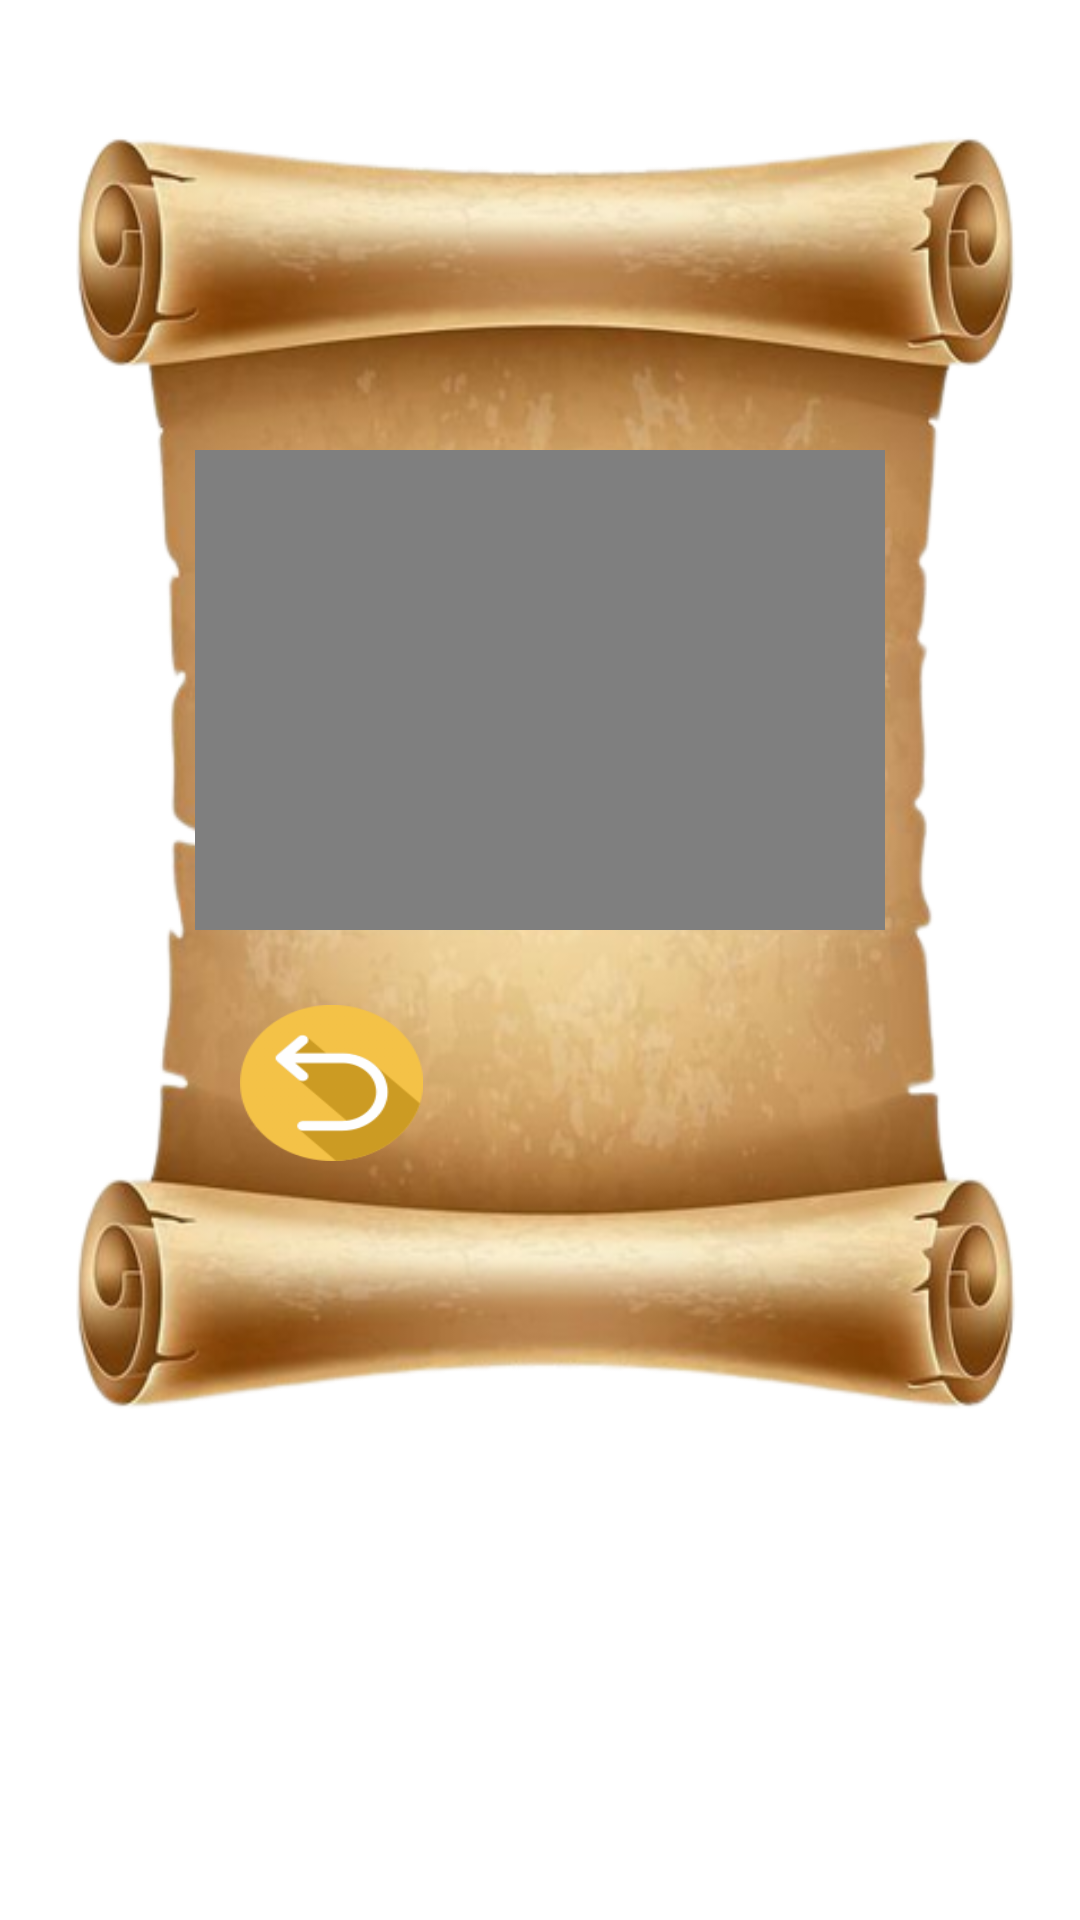

Named icons in this screenshot (1080w x 1920h) and their centers, (x=x, y=y):
undo: (x=331, y=1083)
